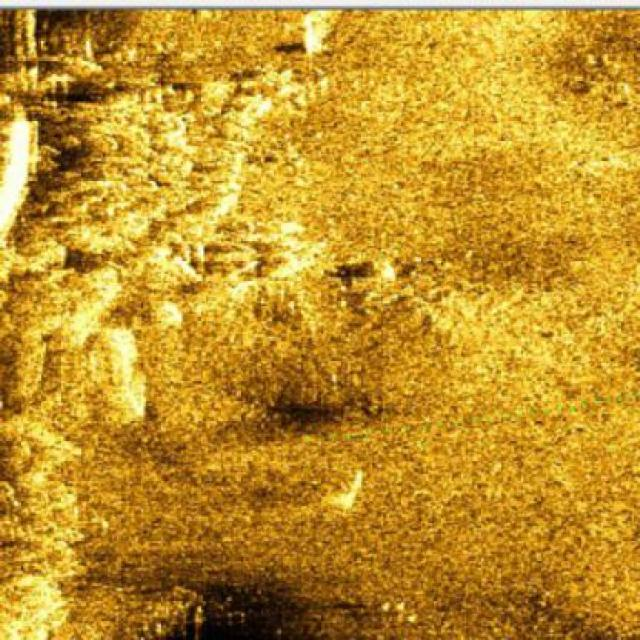bedrock group: (0, 62, 309, 640)
